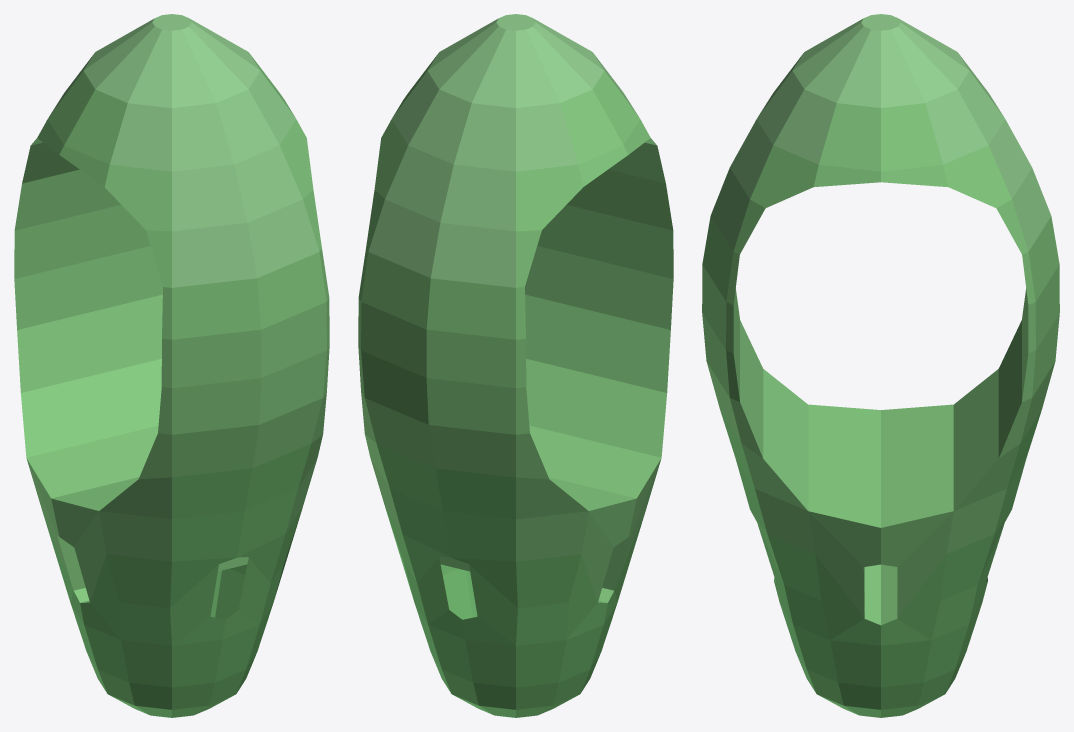
The picture shows the model from 3 angles, left to right: view 1: azimuth 30°, elevation 25°; view 2: azimuth 150°, elevation 25°; view 3: azimuth 270°, elevation 25°; orthographic projection.
Parts seen in each view (by area): view 1: Circle.002; view 2: Circle.002; view 3: Circle.002.
Boxes of the visible parts, x1,y1,x2,y2 form: Circle.002: (14, 14, 329, 717); Circle.002: (358, 14, 673, 717); Circle.002: (702, 14, 1059, 717).
Bounding box in the file's own units: 195 × 521 × 249.
